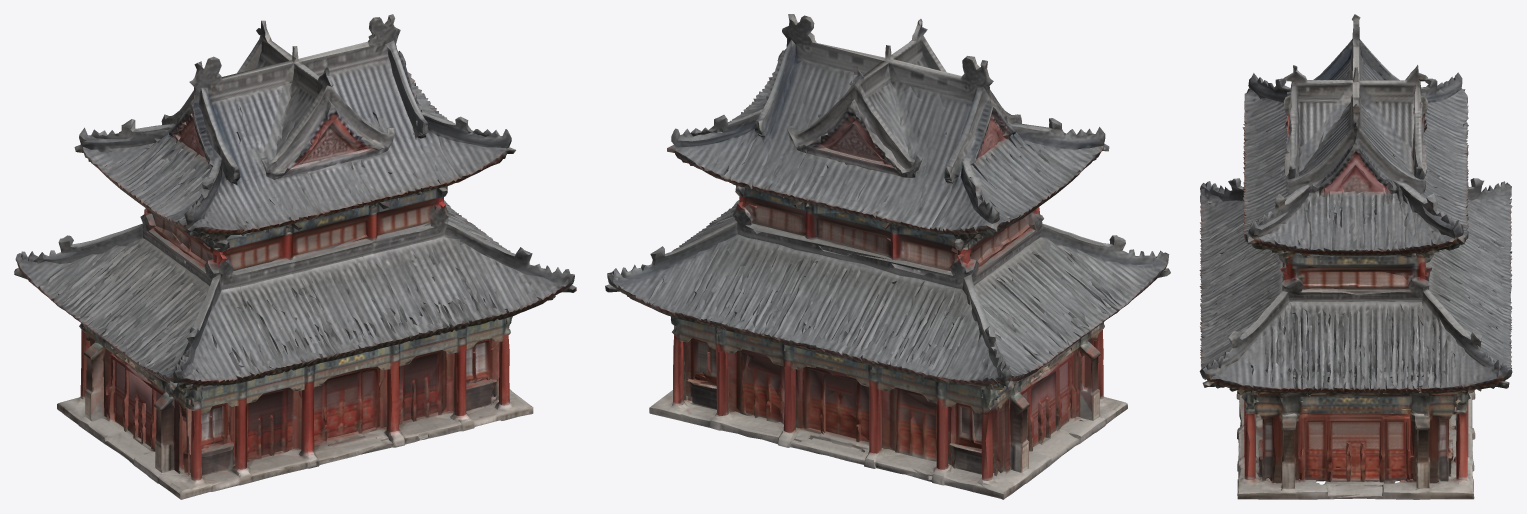
File: temple-hall.glb
3 renders of one model, left to right at view 1: azimuth 30°, elevation 25°; view 2: azimuth 150°, elevation 25°; view 3: azimuth 270°, elevation 25°, orthographic. The views are drawn at different scales.
Parts seen in each view (by area): view 1: geometry_0; view 2: geometry_0; view 3: geometry_0.
Part boxes in pixels (x1,y1,x2,y2): geometry_0: (14, 14, 576, 499); geometry_0: (605, 14, 1170, 499); geometry_0: (1199, 14, 1512, 499).
Size of the model in its own units: 18 by 15.82 by 12.56.
1 material, 1 textured.
